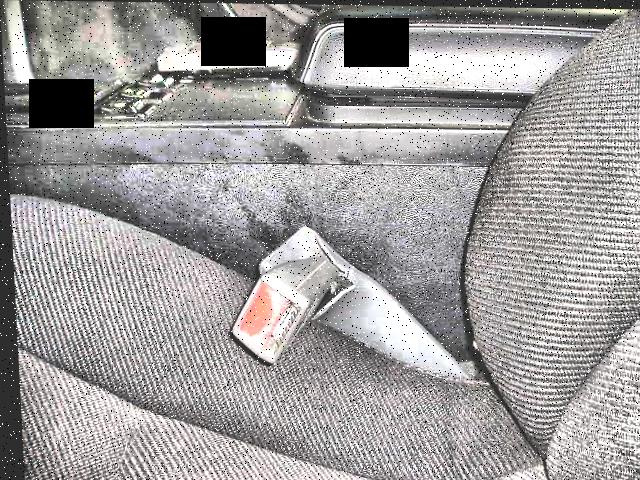seatbelt: (214, 225, 488, 375)
